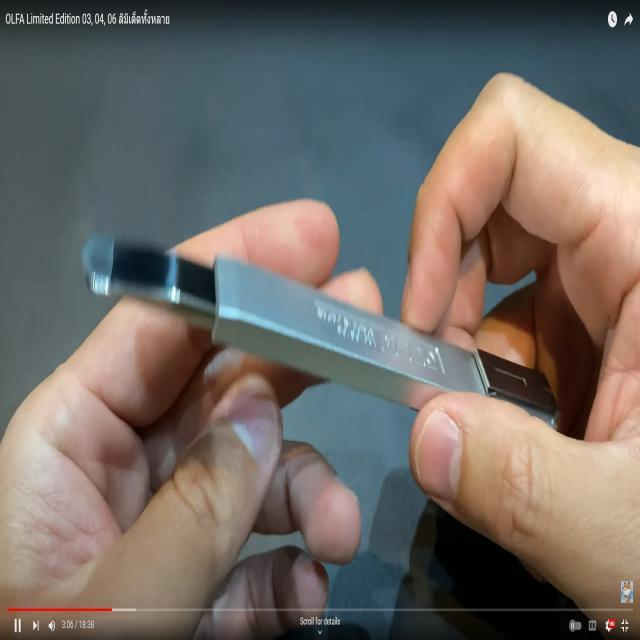cutter: (0, 29, 640, 640)
